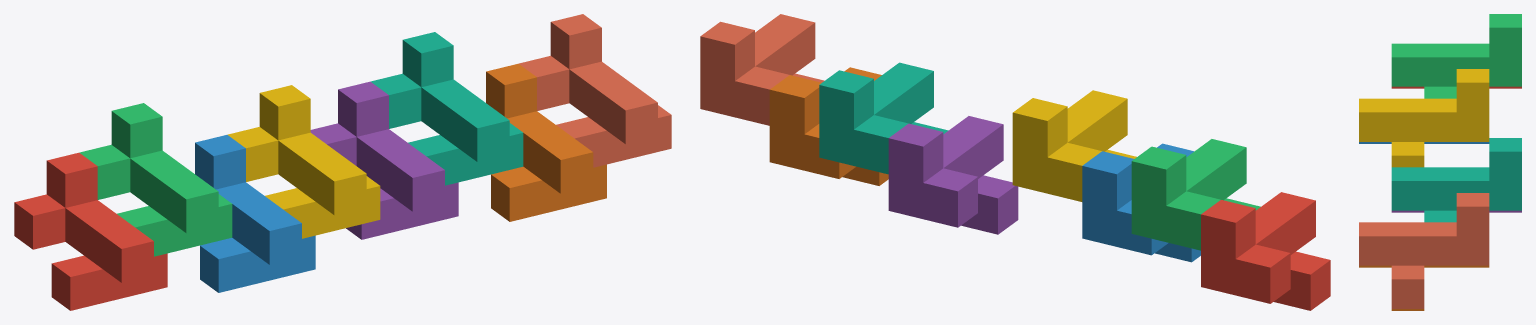
The model's file is tiling.obj.
The picture shows the model from 3 angles, left to right: view 1: azimuth 30°, elevation 25°; view 2: azimuth 150°, elevation 25°; view 3: azimuth 270°, elevation 25°; orthographic projection. The views are drawn at different scales.
Visible parts, largest first — view 1: copy_1_domain_1, copy_1_domain_3, copy_1_domain_4, copy_1_domain_8, copy_1_domain_7, copy_1_domain_5, copy_1_domain_6, copy_1_domain_2; view 2: copy_1_domain_5, copy_1_domain_1, copy_1_domain_4, copy_1_domain_3, copy_1_domain_8, copy_1_domain_7, copy_1_domain_6, copy_1_domain_2; view 3: copy_1_domain_8, copy_1_domain_4, copy_1_domain_7, copy_1_domain_3, copy_1_domain_6, copy_1_domain_1, copy_1_domain_5, copy_1_domain_2.
Part boxes in pixels (x1=…): copy_1_domain_1: x1=14, y1=152, x2=167, y2=310; copy_1_domain_3: x1=79, y1=103, x2=232, y2=256; copy_1_domain_4: x1=227, y1=85, x2=380, y2=238; copy_1_domain_8: x1=519, y1=14, x2=671, y2=167; copy_1_domain_7: x1=370, y1=32, x2=523, y2=185; copy_1_domain_5: x1=310, y1=81, x2=458, y2=239; copy_1_domain_6: x1=486, y1=63, x2=606, y2=221; copy_1_domain_2: x1=195, y1=135, x2=315, y2=292; copy_1_domain_5: x1=888, y1=116, x2=1018, y2=234; copy_1_domain_1: x1=1201, y1=192, x2=1330, y2=310; copy_1_domain_4: x1=1012, y1=90, x2=1136, y2=201; copy_1_domain_3: x1=1131, y1=139, x2=1260, y2=250; copy_1_domain_8: x1=700, y1=14, x2=824, y2=125; copy_1_domain_7: x1=819, y1=62, x2=948, y2=174; copy_1_domain_6: x1=769, y1=67, x2=888, y2=185; copy_1_domain_2: x1=1082, y1=143, x2=1200, y2=262; copy_1_domain_8: x1=1359, y1=193, x2=1489, y2=308; copy_1_domain_4: x1=1359, y1=69, x2=1489, y2=167; copy_1_domain_7: x1=1391, y1=138, x2=1521, y2=222; copy_1_domain_3: x1=1391, y1=14, x2=1521, y2=98; copy_1_domain_6: x1=1359, y1=265, x2=1489, y2=310; copy_1_domain_1: x1=1391, y1=86, x2=1521, y2=88; copy_1_domain_5: x1=1391, y1=210, x2=1521, y2=212; copy_1_domain_2: x1=1359, y1=142, x2=1489, y2=143.
Size of the model in its own units: 18 by 4 by 5.
